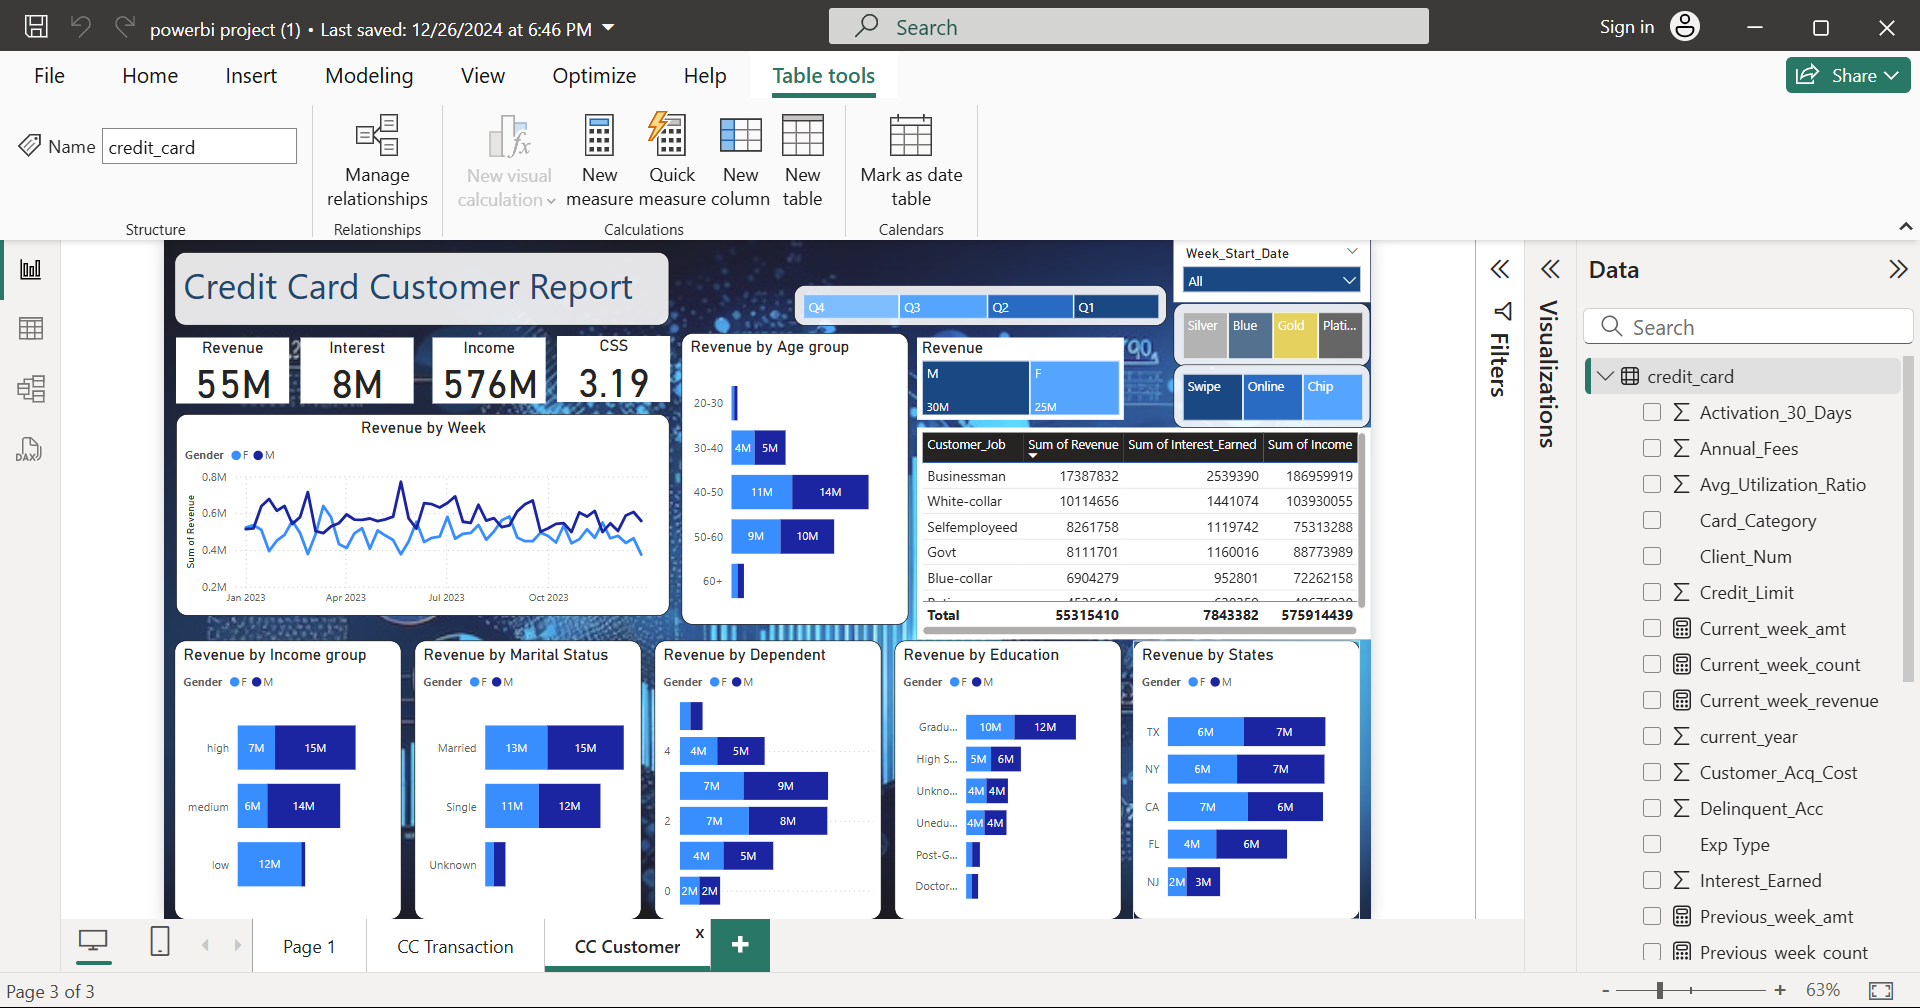

Layout of this report page (visuals, bound fields, positions):
{"tool":"powerbi","page":{"name":"CC Customer","canvas":[1280,720],"ordinal":2},"visuals":[{"type":"textbox","box":[11.9,13.2,524.7,78],"z":0},{"type":"barChart","title":"Revenue by States","fields":{"Y":["Sum(credit_card.Revenue)"],"Category":["customer.state_cd"],"Series":["customer.Gender"]},"box":[1027,424.3,240.6,296.1],"z":1000},{"type":"tableEx","fields":{"Values":["customer.Customer_Job","Sum(credit_card.Revenue)","Sum(credit_card.Interest_Earned)","Sum(customer.Income)"]},"box":[798.4,199.6,481.1,224.7],"z":2000},{"type":"card","title":"Revenue","fields":{"Values":["Sum(credit_card.Revenue)"]},"box":[13.2,103.1,120,70],"z":3000},{"type":"card","title":"Income","fields":{"Values":["Sum(customer.Income)"]},"box":[284.2,103.1,120.3,70.1],"z":4000},{"type":"card","title":"Interest","fields":{"Values":["Sum(credit_card.Interest_Earned)"]},"box":[145.4,103.1,120.3,70.1],"z":5000},{"type":"card","title":"CSS","fields":{"Values":["Avg(customer.Cust_Satisfaction_Score)"]},"box":[416.4,101.8,120.3,70.1],"z":6000},{"type":"treemap","fields":{"Group":["credit_card.Qtr"],"Values":["Avg(credit_card.Client_Num)"]},"box":[668.8,47.6,395.2,43.6],"z":7000},{"type":"slicer","fields":{"Values":["credit_card.Week_Start_Date"]},"box":[1070.6,0,208.8,66.1],"z":8000},{"type":"treemap","fields":{"Group":["credit_card.Card_Category"],"Values":["Avg(credit_card.Client_Num)"]},"box":[1070.6,67.4,208.8,67.4],"z":9000},{"type":"lineChart","title":"Revenue by Week","fields":{"Category":["credit_card.Week_Start_Date.Variation.Date Hierarchy.Year","credit_card.Week_Start_Date.Variation.Date Hierarchy.Month","credit_card.Week_Start_Date.Variation.Date Hierarchy.Day"],"Y":["Sum(credit_card.Revenue)"],"Series":["customer.Gender"]},"box":[13.2,183.7,523.4,214.1],"z":10000},{"type":"treemap","title":"Revenue","fields":{"Group":["customer.Gender"],"Values":["Sum(credit_card.Revenue)"]},"box":[798.4,103.1,219.4,87.2],"z":11000},{"type":"barChart","title":"Revenue by Income group","fields":{"Y":["Sum(credit_card.Revenue)"],"Category":["customer.IncomeGroup"],"Series":["customer.Gender"]},"box":[11.9,424.3,240.6,296.1],"z":12000},{"type":"barChart","title":"Revenue by Age group","fields":{"Y":["Sum(credit_card.Revenue)"],"Category":["customer.AgeGroup"],"Series":["customer.Gender"]},"box":[548.5,99.1,240.6,309.3],"z":13000},{"type":"barChart","title":"Revenue by Dependent","fields":{"Y":["Sum(credit_card.Revenue)"],"Category":["customer.Dependent_Count"],"Series":["customer.Gender"]},"box":[519.5,424.3,240.6,296.1],"z":14000},{"type":"barChart","title":"Revenue by Education","fields":{"Y":["Sum(credit_card.Revenue)"],"Category":["customer.Education_Level"],"Series":["customer.Gender"]},"box":[774.6,424.3,240.6,296.1],"z":15000},{"type":"barChart","title":"Revenue by Marital Status","fields":{"Y":["Sum(credit_card.Revenue)"],"Category":["customer.Marital_Status"],"Series":["customer.Gender"]},"box":[265.7,424.3,240.6,296.1],"z":16000},{"type":"treemap","fields":{"Group":["credit_card.Use Chip"],"Values":["Avg(credit_card.Client_Num)"]},"box":[1070.6,132.2,208.8,67.4],"z":17000}]}

Visuals, with their boxes on the page's 1280x720 design canvas (x1, y1, x2, y2). These are canvas units, not pixel positions in the 1920x1008 screenshot, which may show the page scaled, cropped or inside an application window:
textbox: 12:13:537:91
"Revenue by States" barChart: 1027:424:1268:720
tableEx - customer.Customer_Job x Sum(credit_card.Revenue): 798:200:1280:424
"Revenue" card: 13:103:133:173
"Income" card: 284:103:404:173
"Interest" card: 145:103:266:173
"CSS" card: 416:102:537:172
treemap - credit_card.Qtr x Avg(credit_card.Client_Num): 669:48:1064:91
slicer - credit_card.Week_Start_Date: 1071:0:1279:66
treemap - credit_card.Card_Category x Avg(credit_card.Client_Num): 1071:67:1279:135
"Revenue by Week" lineChart: 13:184:537:398
"Revenue" treemap: 798:103:1018:190
"Revenue by Income group" barChart: 12:424:252:720
"Revenue by Age group" barChart: 548:99:789:408
"Revenue by Dependent" barChart: 520:424:760:720
"Revenue by Education" barChart: 775:424:1015:720
"Revenue by Marital Status" barChart: 266:424:506:720
treemap - credit_card.Use Chip x Avg(credit_card.Client_Num): 1071:132:1279:200
